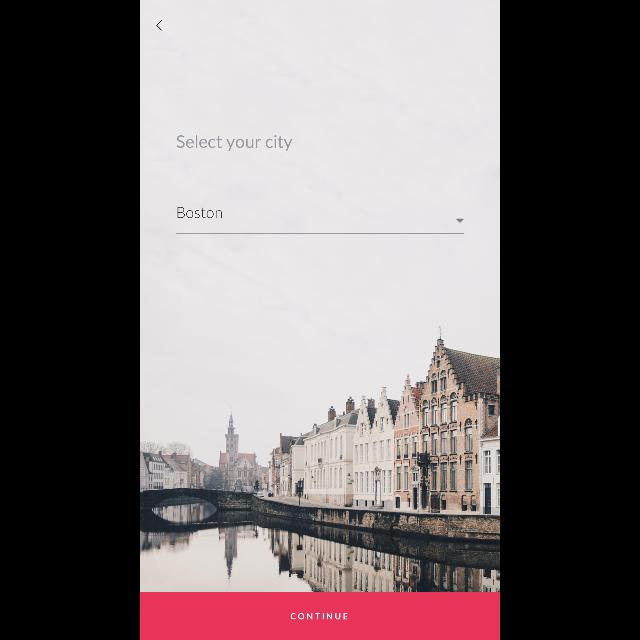backgroundimage: (140, 1, 500, 592)
icon: (157, 20, 163, 32), (456, 218, 464, 224)
text: (176, 134, 294, 152), (178, 208, 222, 218)
textbutton: (140, 592, 500, 640)
